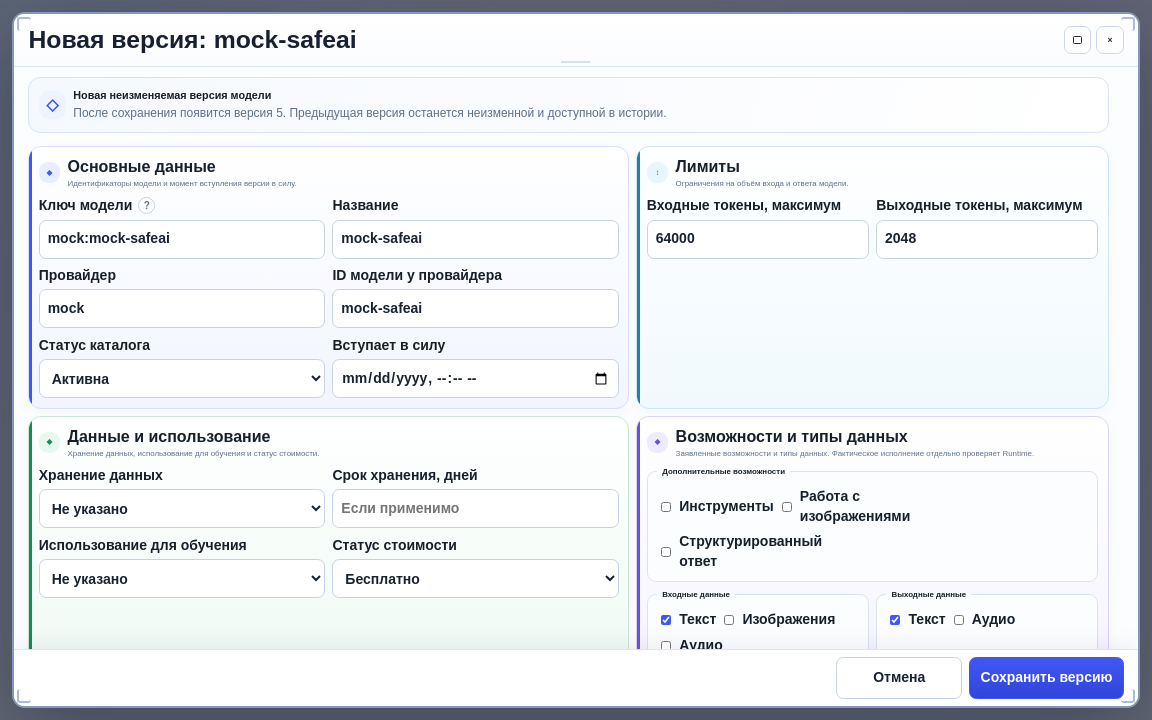
ModelCatalogVersionModal — production regression › объясняет новую версию уже зарегистрированного ключа в режиме создания
Expected: the heading "Новая версия: mock-safeai" is shown, [28,24,357,56]
Expected: the text "После сохранения появится версия 5" is shown, [73,106,667,120]
Replace the text in the field labelled "Ключ модели ?" with "mock:new-model" at [182, 239], box [39,220,325,259]
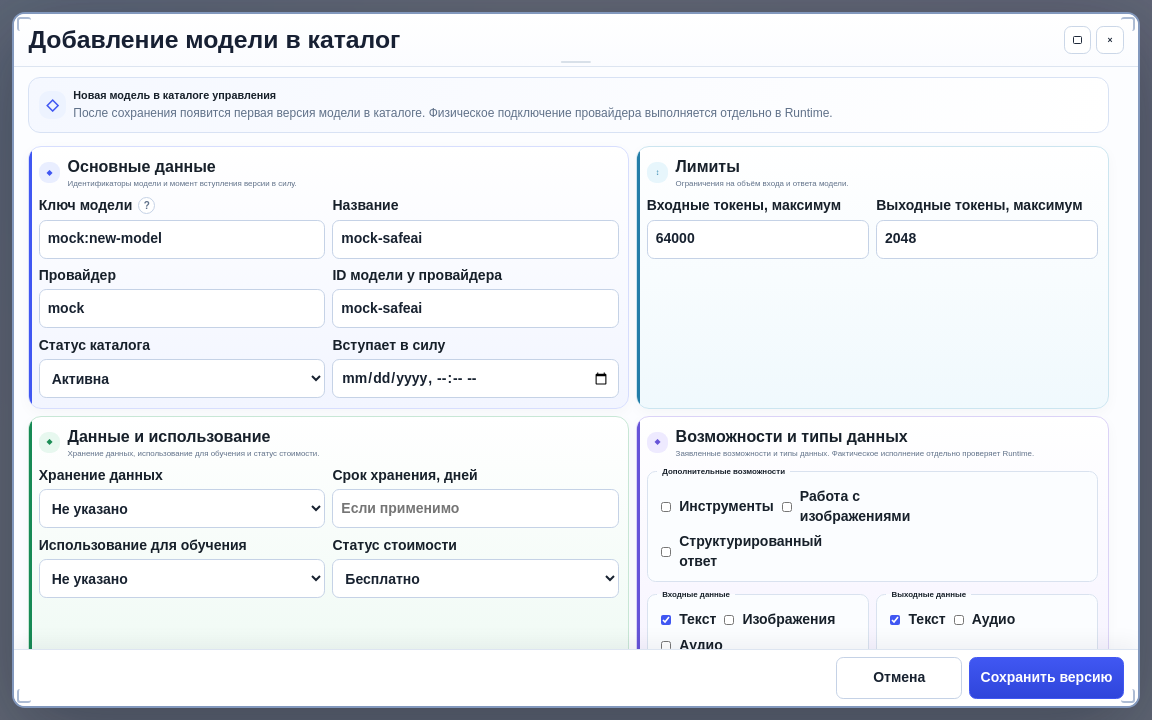
Expected: the heading "Добавление модели в каталог" is shown, [28,24,400,56]
Expected: the text "После сохранения появится первая версия модели" is shown, [73,106,833,120]
